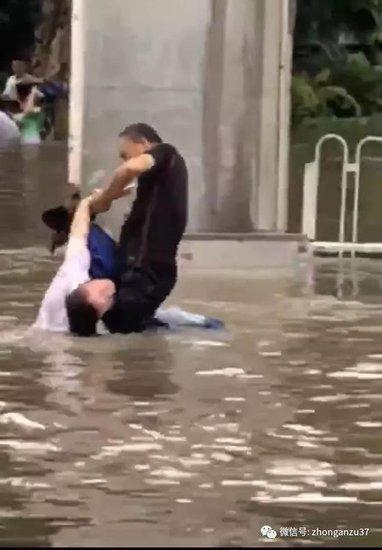Fall-Detected: (17, 188, 125, 342)
